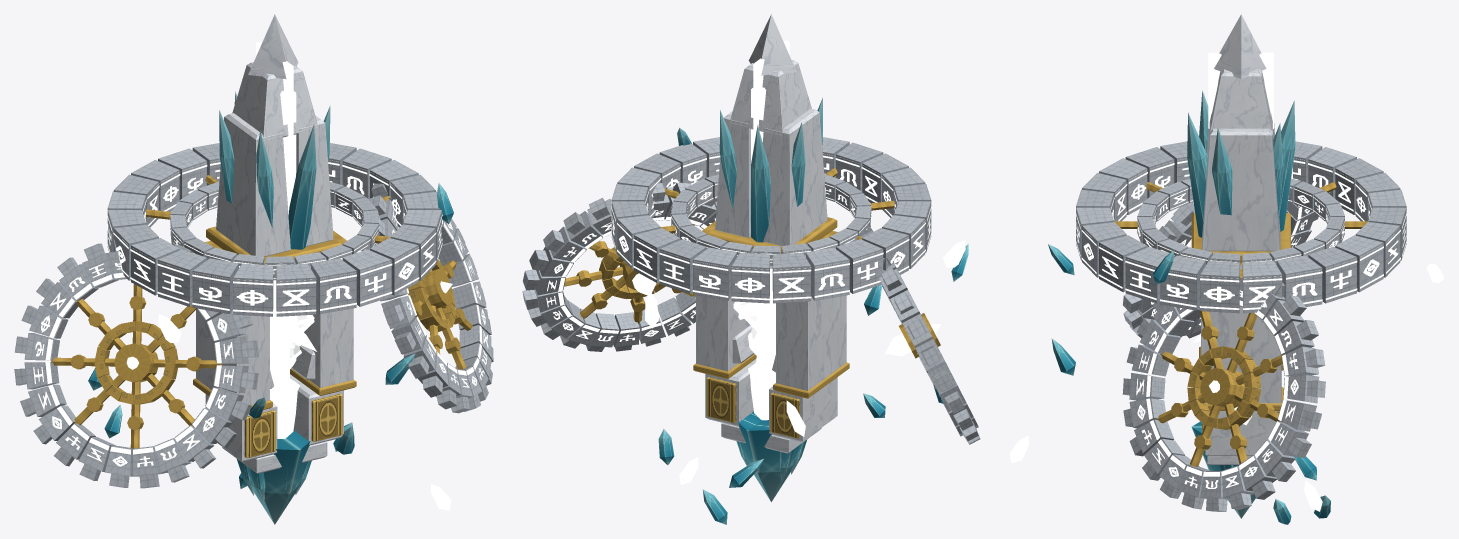
Rendered from rift_obelisk_boss.glb.
3 views of the same model, side by side, from view 1: azimuth 30°, elevation 25°; view 2: azimuth 150°, elevation 25°; view 3: azimuth 270°, elevation 25° (orthographic). The views are drawn at different scales.
Parts seen in each view (by area): view 1: ring_top, wheel_right, obelisk_upper, wheel_left, obelisk_base, obelisk_left, obelisk_right, orbit_shards, prism_core; view 2: ring_top, obelisk_upper, wheel_left, obelisk_base, obelisk_right, wheel_right, orbit_shards, obelisk_left, prism_core; view 3: ring_top, wheel_left, obelisk_upper, obelisk_left, orbit_shards, wheel_right, obelisk_base.
Boxes of the visible parts, x1=… form: ring_top: x1=107, y1=143, x2=442, y2=316; wheel_right: x1=14, y1=239, x2=258, y2=488; obelisk_upper: x1=206, y1=14, x2=341, y2=264; wheel_left: x1=368, y1=183, x2=493, y2=413; obelisk_base: x1=205, y1=374, x2=343, y2=524; obelisk_left: x1=290, y1=230, x2=356, y2=395; obelisk_right: x1=193, y1=240, x2=273, y2=413; orbit_shards: x1=40, y1=183, x2=453, y2=510; prism_core: x1=270, y1=280, x2=316, y2=391; ring_top: x1=611, y1=137, x2=931, y2=303; obelisk_upper: x1=706, y1=14, x2=837, y2=253; wheel_left: x1=522, y1=182, x2=717, y2=351; obelisk_base: x1=705, y1=359, x2=837, y2=501; obelisk_right: x1=772, y1=230, x2=849, y2=398; wheel_right: x1=860, y1=226, x2=980, y2=444; orbit_shards: x1=645, y1=128, x2=968, y2=524; obelisk_left: x1=693, y1=221, x2=756, y2=378; prism_core: x1=733, y1=268, x2=775, y2=374; ring_top: x1=1075, y1=141, x2=1407, y2=313; wheel_left: x1=1122, y1=265, x2=1325, y2=511; obelisk_upper: x1=1187, y1=14, x2=1295, y2=263; obelisk_left: x1=1199, y1=263, x2=1283, y2=410; orbit_shards: x1=1009, y1=244, x2=1444, y2=524; wheel_right: x1=1123, y1=202, x2=1318, y2=338; obelisk_base: x1=1191, y1=411, x2=1279, y2=518.
Bounding box in the file's own units: 4.98 × 5.26 × 4.11.
9 materials, 7 textured.
